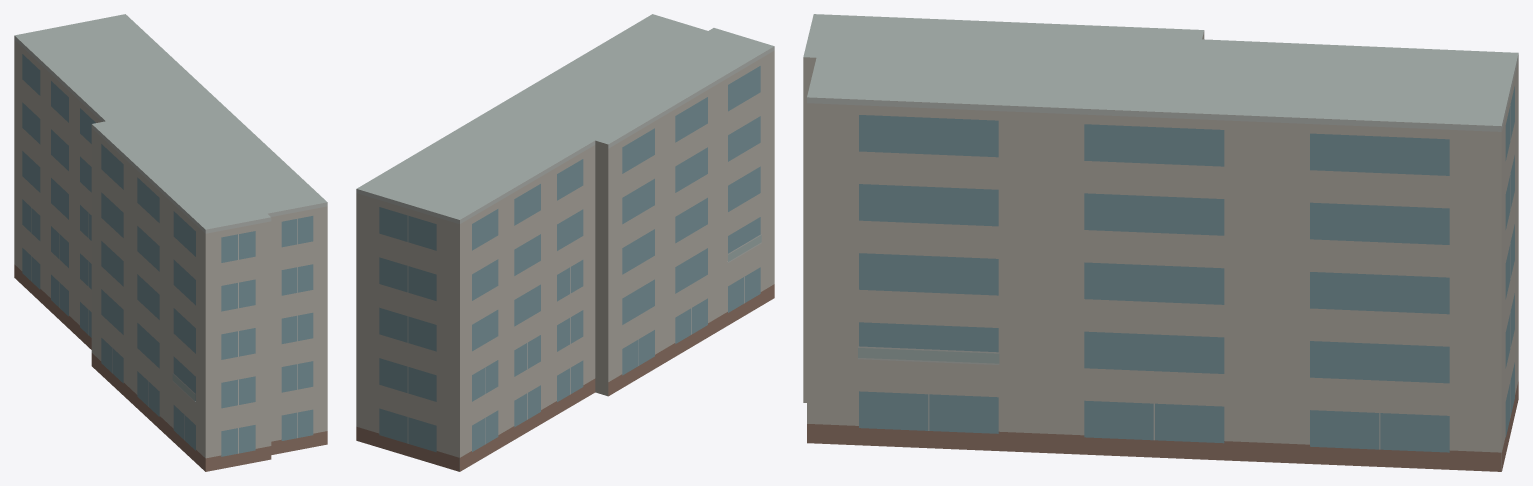
Rendered from survey-upis-33020017.glb.
3 views of the same model, side by side, from view 1: azimuth 30°, elevation 25°; view 2: azimuth 150°, elevation 25°; view 3: azimuth 270°, elevation 25° (orthographic). The views are drawn at different scales.
Visible parts, largest first — view 1: survey-upis-33020017.tmp; view 2: survey-upis-33020017.tmp; view 3: survey-upis-33020017.tmp.
Boxes of the visible parts, <box> form: survey-upis-33020017.tmp: <box>14,14,327,471</box>; survey-upis-33020017.tmp: <box>356,14,774,471</box>; survey-upis-33020017.tmp: <box>803,14,1518,471</box>.
Size of the model in its own units: 10.1 by 14.5 by 27.2.
